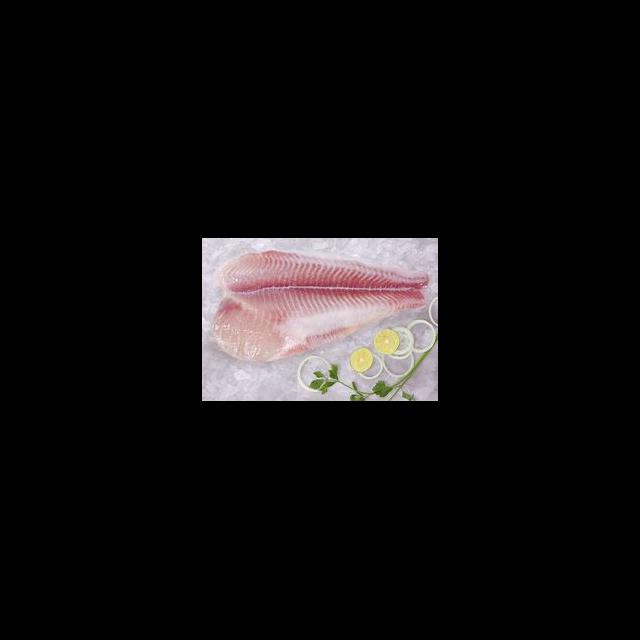fish: (202, 241, 434, 370)
